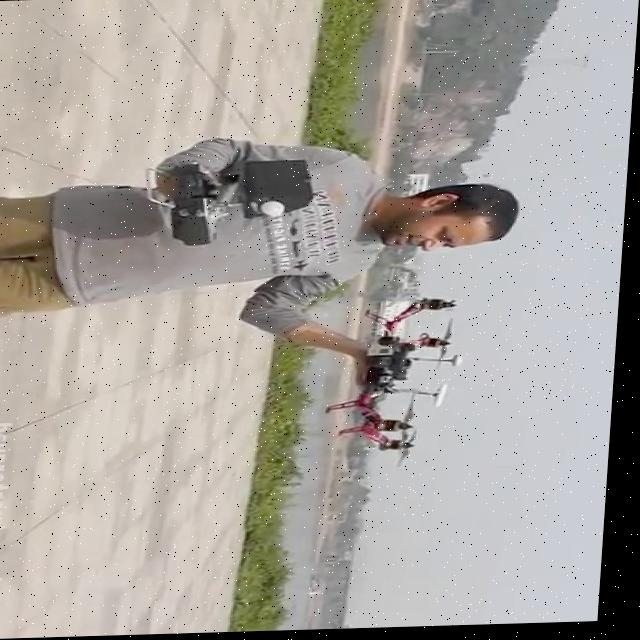drone: (329, 294, 482, 474)
